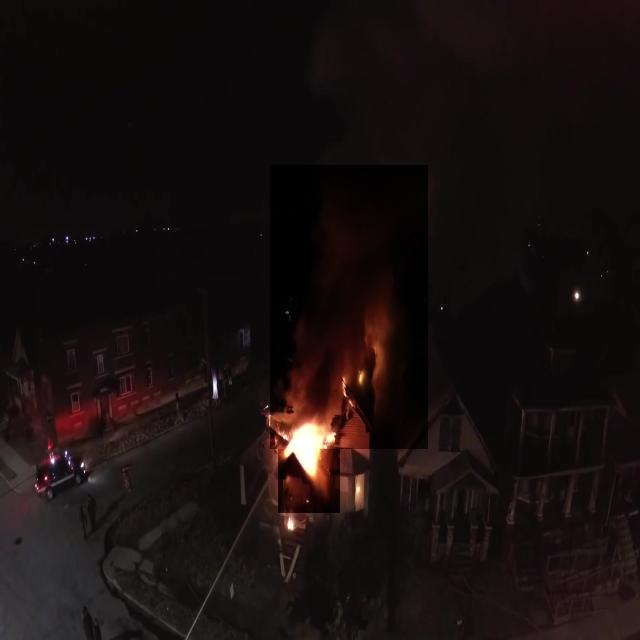Fire: (278, 414, 340, 514)
Smoke: (271, 165, 428, 449)
